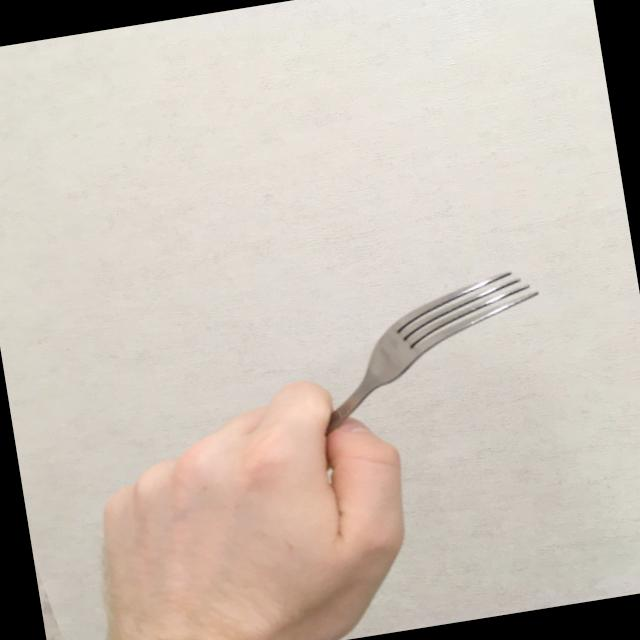fork: (238, 266, 563, 489)
